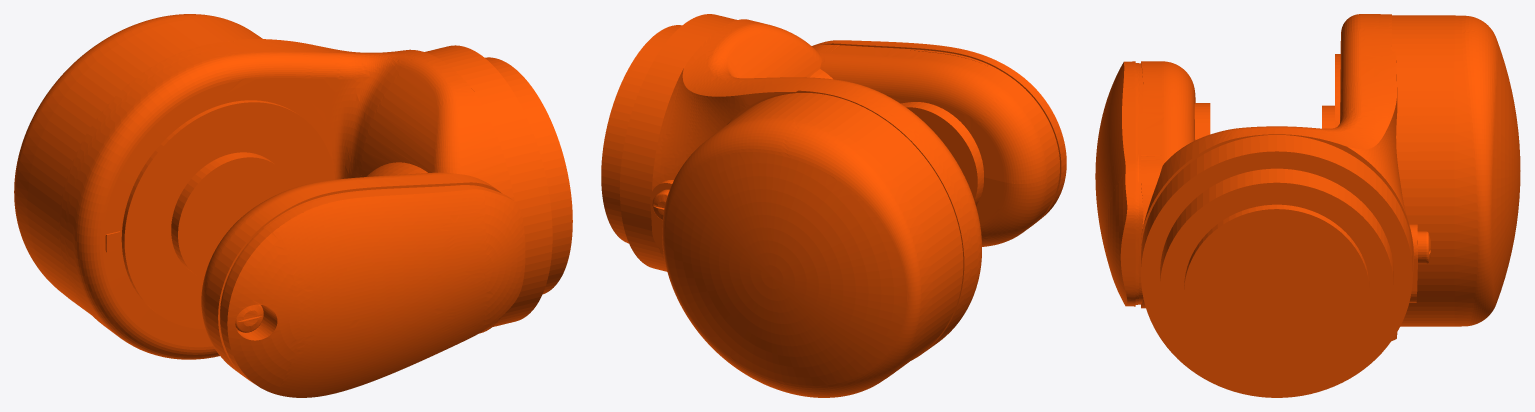
3 renders of one model, left to right at view 1: azimuth 30°, elevation 25°; view 2: azimuth 150°, elevation 25°; view 3: azimuth 270°, elevation 25°, orthographic. The views are drawn at different scales.
Parts seen in each view (by area): view 1: _world_KR300 R2500 ultra.3ds_Wrist_Part_2.3ds_Wrist_Part_2.3; view 2: _world_KR300 R2500 ultra.3ds_Wrist_Part_2.3ds_Wrist_Part_2.3; view 3: _world_KR300 R2500 ultra.3ds_Wrist_Part_2.3ds_Wrist_Part_2.3.
Part boxes in pixels (x1=…): _world_KR300 R2500 ultra.3ds_Wrist_Part_2.3ds_Wrist_Part_2.3: x1=14, y1=14, x2=572, y2=397; _world_KR300 R2500 ultra.3ds_Wrist_Part_2.3ds_Wrist_Part_2.3: x1=601, y1=14, x2=1066, y2=397; _world_KR300 R2500 ultra.3ds_Wrist_Part_2.3ds_Wrist_Part_2.3: x1=1095, y1=14, x2=1520, y2=397.
Size of the model in its own units: 0.3411 by 0.325 by 0.2402.
